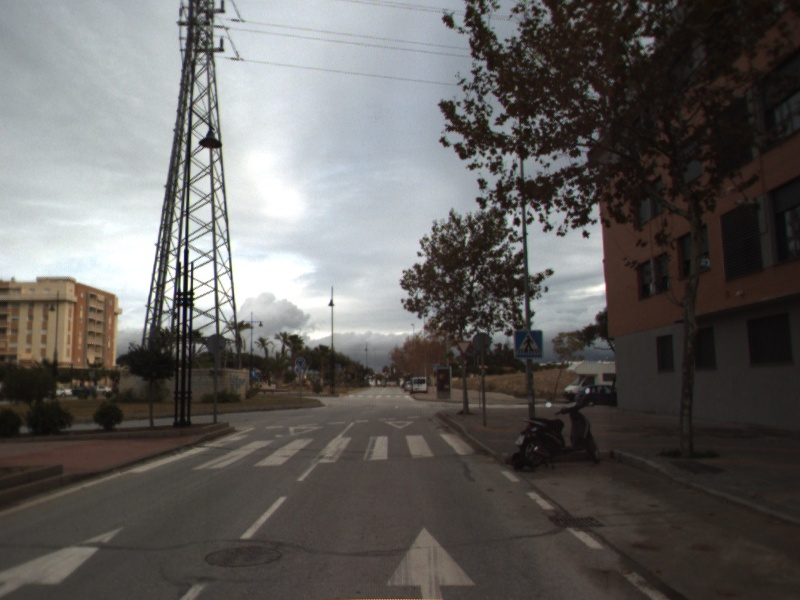STRAIGHT: (1, 523, 127, 600), (383, 523, 479, 600)
